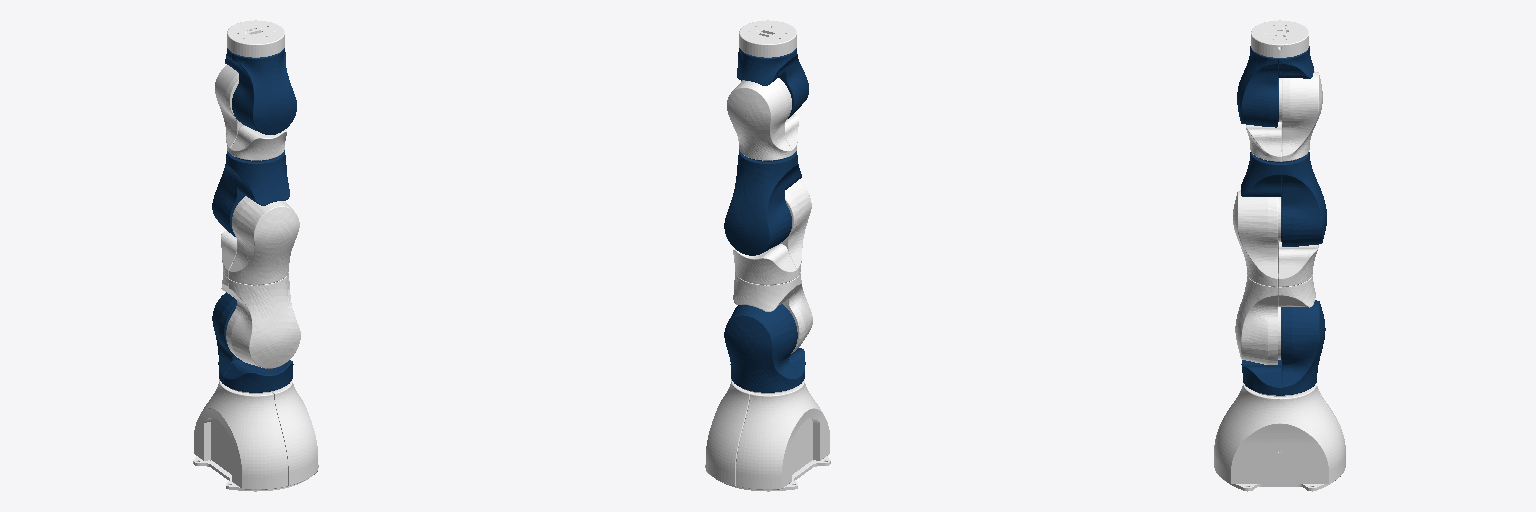
URDF robot description (p_rob):
<?xml version="1.0" ?>
<!-- =================================================================================== -->
<!-- |    This document was autogenerated by xacro from p_rob.urdf.xacro               | -->
<!-- |    EDITING THIS FILE BY HAND IS NOT RECOMMENDED                                 | -->
<!-- =================================================================================== -->
<robot name="p_rob" xmlns:xacro="http://www.ros.org/wiki/xacro">
  <material name="blue">
    <color rgba="0.12549019607843137 0.2784313725490196 0.43529411764705883 1"/>
  </material>
  <material name="black">
    <color rgba="0 0 0 1"/>
  </material>
  <material name="white">
    <color rgba="1 1 1 1"/>
  </material>
  <link name="base_link">
    <inertial>
      <origin rpy="0 0 0" xyz="8.71294630254049E-05 0.508451295685675 -0.00113740271757783"/>
      <mass value="31.8818528911811"/>
      <inertia ixx="4.65436888537887" ixy="-0.0338576061896482" ixz="3.29763186167614E-06" iyy="0.165544422845209" iyz="-0.00333281637307909" izz="4.60911765357231"/>
    </inertial>
    <visual>
      <geometry>
        <mesh filename="package://p_rob_description/meshes/p_base.STL"/>
      </geometry>
      <material name="white"/>
    </visual>
    <collision>
      <geometry>
        <mesh filename="package://p_rob_description/meshes/p_base.STL"/>
      </geometry>
    </collision>
  </link>
  <joint name="p_rob_joint1" type="revolute">
    <origin xyz="0 0 0.212"/>
    <parent link="base_link"/>
    <child link="p_rob_link12"/>
    <limit effort="1.09" lower="-2.96705972839" upper="2.96705972839" velocity="0.829031394697"/>
    <axis xyz="0 0 1"/>
  </joint>
  <link name="p_rob_link12">
    <inertial>
      <origin rpy="0 0 0" xyz="8.71294630254049E-05 0.277951295685675 -0.00113740271757783"/>
      <mass value="3.652"/>
      <inertia ixx="0.06656" ixy="1e-05" ixz="1e-05" iyy="0.0661" iyz="0.00952" izz="0.0076"/>
    </inertial>
    <visual>
      <geometry>
        <mesh filename="package://p_arm_description/meshes/p_rob_2R/link12.STL"/>
      </geometry>
      <material name="blue"/>
    </visual>
    <collision>
      <geometry>
        <mesh filename="package://p_arm_description/meshes/p_rob_2R/link12.STL"/>
      </geometry>
    </collision>
  </link>
  <joint name="p_rob_joint2" type="revolute">
    <origin xyz="0 0 0.1505"/>
    <parent link="p_rob_link12"/>
    <child link="p_rob_link23"/>
    <limit effort="1.09" lower="-1.91986217719" upper="1.91986217719" velocity="0.829031394697"/>
    <axis xyz="0 1 0"/>
  </joint>
  <link name="p_rob_link23">
    <inertial>
      <origin xyz="8.71294630254052E-05 0.000951295697065868 -0.00113740271757783"/>
      <mass value="3.52"/>
      <inertia ixx="0.18406" ixy="2e-05" ixz="-8e-05" iyy="0.18142" iyz="0.01932" izz="0.00841"/>
    </inertial>
    <visual>
      <geometry>
        <mesh filename="package://p_arm_description/meshes/p_rob_2R/link23.STL"/>
      </geometry>
      <material name="white"/>
    </visual>
    <collision>
      <geometry>
        <mesh filename="package://p_arm_description/meshes/p_rob_2R/link23.STL"/>
      </geometry>
    </collision>
  </link>
  <joint name="p_rob_joint3" type="revolute">
    <origin xyz="0 0 0.29"/>
    <parent link="p_rob_link23"/>
    <child link="p_rob_link34"/>
    <limit effort="1.09" lower="-2.00712863979" upper="2.00712863979" velocity="0.829031394697"/>
    <axis xyz="0 1 0"/>
  </joint>
  <link name="p_rob_link34">
    <inertial>
      <origin rpy="0 0 0" xyz="8.71294630254052E-05 -0.313548704302934 -0.00113740271757783"/>
      <mass value="1.626"/>
      <inertia ixx="0.02372" ixy="-2e-05" ixz="4e-05" iyy="0.02243" iyz="0.00024" izz="0.0343"/>
    </inertial>
    <visual>
      <geometry>
        <mesh filename="package://p_arm_description/meshes/p_rob_2R/link34.STL"/>
      </geometry>
      <material name="blue"/>
    </visual>
    <collision>
      <geometry>
        <mesh filename="package://p_arm_description/meshes/p_rob_2R/link34.STL"/>
      </geometry>
    </collision>
  </link>
  <joint name="p_rob_joint4" type="revolute">
    <origin xyz="0 0 0.1645"/>
    <parent link="p_rob_link34"/>
    <child link="p_rob_link45"/>
    <limit effort="0.3275" lower="-2.96705972839" upper="2.96705972839" velocity="0.829031394697"/>
    <axis xyz="0 0 1"/>
  </joint>
  <link name="p_rob_link45">
    <inertial>
      <origin rpy="0 0 0" xyz="8.71294630254052E-05 -0.313548704302934 -0.00113740271757783"/>
      <mass value="1.516"/>
      <inertia ixx="0.02488" ixy="2e-05" ixz="3e-05" iyy="0.02409" iyz="0.00398" izz="0.00272"/>
    </inertial>
    <visual>
      <geometry>
        <mesh filename="package://p_arm_description/meshes/p_rob_2R/link45.STL"/>
      </geometry>
      <material name="white"/>
    </visual>
    <collision>
      <geometry>
        <mesh filename="package://p_arm_description/meshes/p_rob_2R/link45.STL"/>
      </geometry>
    </collision>
  </link>
  <joint name="p_rob_joint5" type="revolute">
    <origin xyz="0 0 0.1455"/>
    <parent link="p_rob_link45"/>
    <child link="p_rob_link56"/>
    <limit effort="0.3275" lower="-2.00712863979" upper="2.00712863979" velocity="0.829031394697"/>
    <axis xyz="0 1 0"/>
  </joint>
  <link name="p_rob_link56">
    <inertial>
      <origin xyz="-8.71294630254049E-05 -0.588048704302934 0.00113740271757783"/>
      <mass value="1.417"/>
      <inertia ixx="0.01351" ixy="-2e-05" ixz="-3e-05" iyy="0.01261" iyz="-0.00012" izz="0.00274"/>
    </inertial>
    <visual>
      <geometry>
        <mesh filename="package://p_arm_description/meshes/p_rob_2R/link56.STL"/>
      </geometry>
      <material name="blue"/>
    </visual>
    <collision>
      <geometry>
        <mesh filename="package://p_arm_description/meshes/p_rob_2R/link56.STL"/>
      </geometry>
    </collision>
  </link>
  <joint name="p_rob_joint6" type="revolute">
    <origin xyz="0 0 0.129"/>
    <parent link="p_rob_link56"/>
    <child link="p_rob_link6G"/>
    <limit effort="0.179324" lower="-2.96705972839" upper="2.96705972839" velocity="1.65806278939"/>
    <axis xyz="0 0 1"/>
  </joint>
  <link name="p_rob_link6G">
    <inertial>
      <origin xyz="-0.00113740271757783 0.588048704302934 8.7129463025477E-05"/>
      <mass value="0.435"/>
      <inertia ixx="0.00079" ixy="0.0" ixz="0.0" iyy="0.00086" iyz="-1e-05" izz="0.00084"/>
    </inertial>
    <visual>
      <geometry>
        <mesh filename="package://p_arm_description/meshes/p_rob_2R/link6G.STL"/>
      </geometry>
      <material name="white"/>
    </visual>
    <collision>
      <geometry>
        <mesh filename="package://p_arm_description/meshes/p_rob_2R/link6G.STL"/>
      </geometry>
    </collision>
  </link>
  <joint name="p_rob_gripper_interface_joint" type="fixed">
    <origin xyz="0 0 0.046"/>
    <parent link="p_rob_link6G"/>
    <child link="p_rob_gripper_interface_link"/>
  </joint>
  <link name="p_rob_gripper_interface_link"/>
</robot>

--- What the picture shows (computed from the rendered views, not written in the file) ---
The picture shows the robot from 3 angles, left to right: view 1: azimuth 30°, elevation 25°; view 2: azimuth 150°, elevation 25°; view 3: azimuth 270°, elevation 25°; orthographic projection.
Robot: p_rob — 8 links, 7 joints (6 revolute, 1 fixed); root link base_link; default pose: every joint at zero.
Links seen in each view (by area): view 1: p_rob_link23, base_link, p_rob_link56, p_rob_link34, p_rob_link12, p_rob_link45, p_rob_link6G; view 2: base_link, p_rob_link12, p_rob_link23, p_rob_link34, p_rob_link45, p_rob_link56, p_rob_link6G; view 3: base_link, p_rob_link23, p_rob_link34, p_rob_link12, p_rob_link45, p_rob_link56, p_rob_link6G.
Link boxes in pixels (left/top/right/bottom): p_rob_link23: left=221, top=196, right=300, bottom=368; base_link: left=193, top=379, right=318, bottom=491; p_rob_link56: left=225, top=48, right=296, bottom=134; p_rob_link34: left=212, top=150, right=289, bottom=236; p_rob_link12: left=212, top=292, right=293, bottom=392; p_rob_link45: left=215, top=65, right=286, bottom=160; p_rob_link6G: left=227, top=20, right=284, bottom=57; base_link: left=705, top=379, right=830, bottom=491; p_rob_link12: left=724, top=304, right=805, bottom=392; p_rob_link23: left=733, top=181, right=812, bottom=353; p_rob_link34: left=724, top=150, right=801, bottom=255; p_rob_link45: left=727, top=78, right=798, bottom=160; p_rob_link56: left=737, top=48, right=808, bottom=118; p_rob_link6G: left=739, top=20, right=796, bottom=57; base_link: left=1214, top=383, right=1345, bottom=491; p_rob_link23: left=1233, top=190, right=1318, bottom=364; p_rob_link34: left=1241, top=152, right=1326, bottom=246; p_rob_link12: left=1241, top=300, right=1325, bottom=395; p_rob_link45: left=1246, top=71, right=1322, bottom=161; p_rob_link56: left=1237, top=46, right=1313, bottom=127; p_rob_link6G: left=1251, top=20, right=1308, bottom=57.
Size in the robot's own frame: 0.25 by 0.31 by 1.13 metres.
7 mesh visuals loaded from 7 distinct referenced files (7 binary STL).